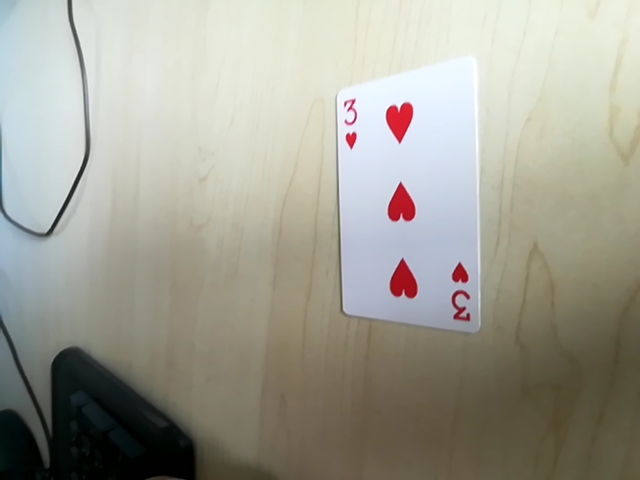hx 3: (447, 266, 481, 334), (332, 89, 365, 151)
